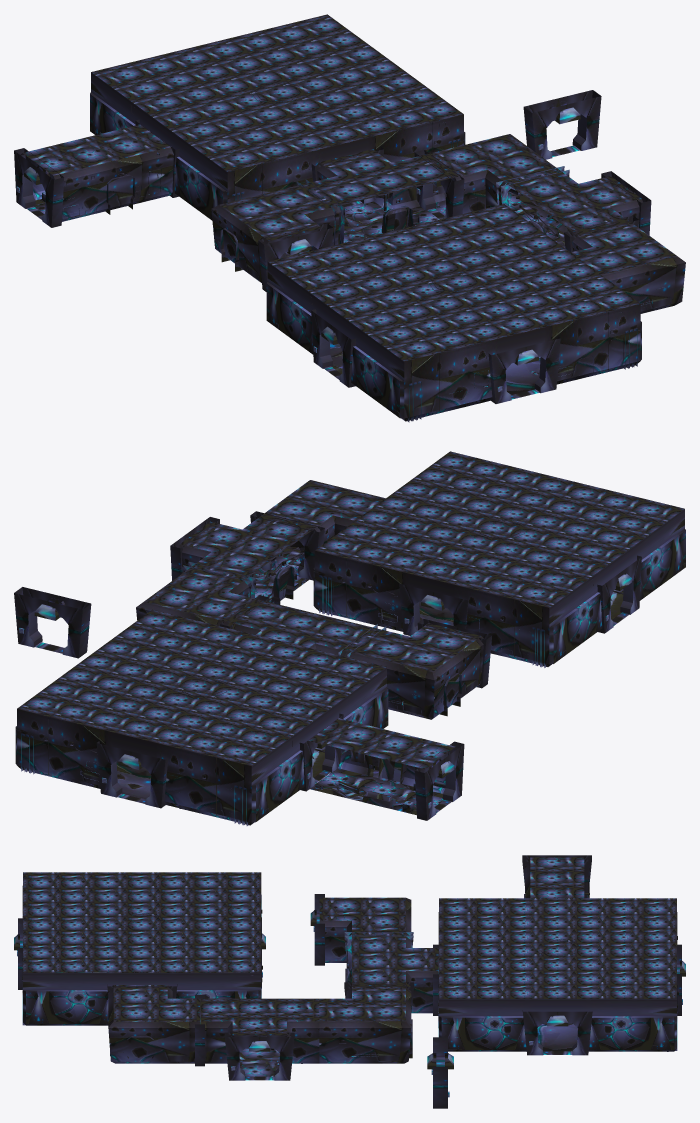
File: Combined_Mesh_root_scene__15_7f71ba4d__ZombiesII_laboratory_11_d_6be3923c_c1f257.obj
3 views of the same model, one above another, from view 1: azimuth 30°, elevation 25°; view 2: azimuth 150°, elevation 25°; view 3: azimuth 270°, elevation 25° (orthographic). The views are drawn at different scales.
Size of the model in its own units: 84.62 by 10.34 by 113.
Materials: 591 (591 with a texture image).
